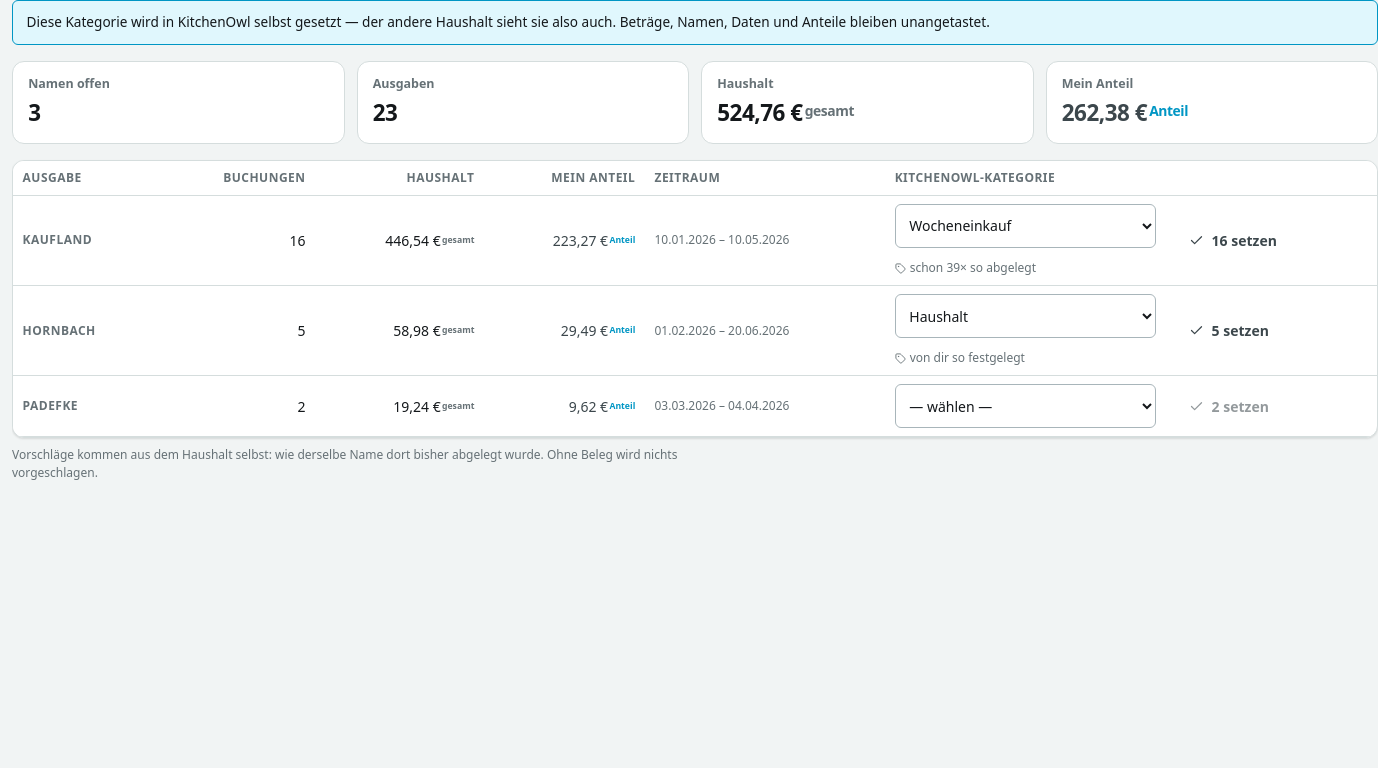
Scenario: the tagging queue › applies one name at a time, sending the chosen category
Click the button "16 setzen". click: [1233, 240]
box: left=1175, top=221, right=1292, bottom=260
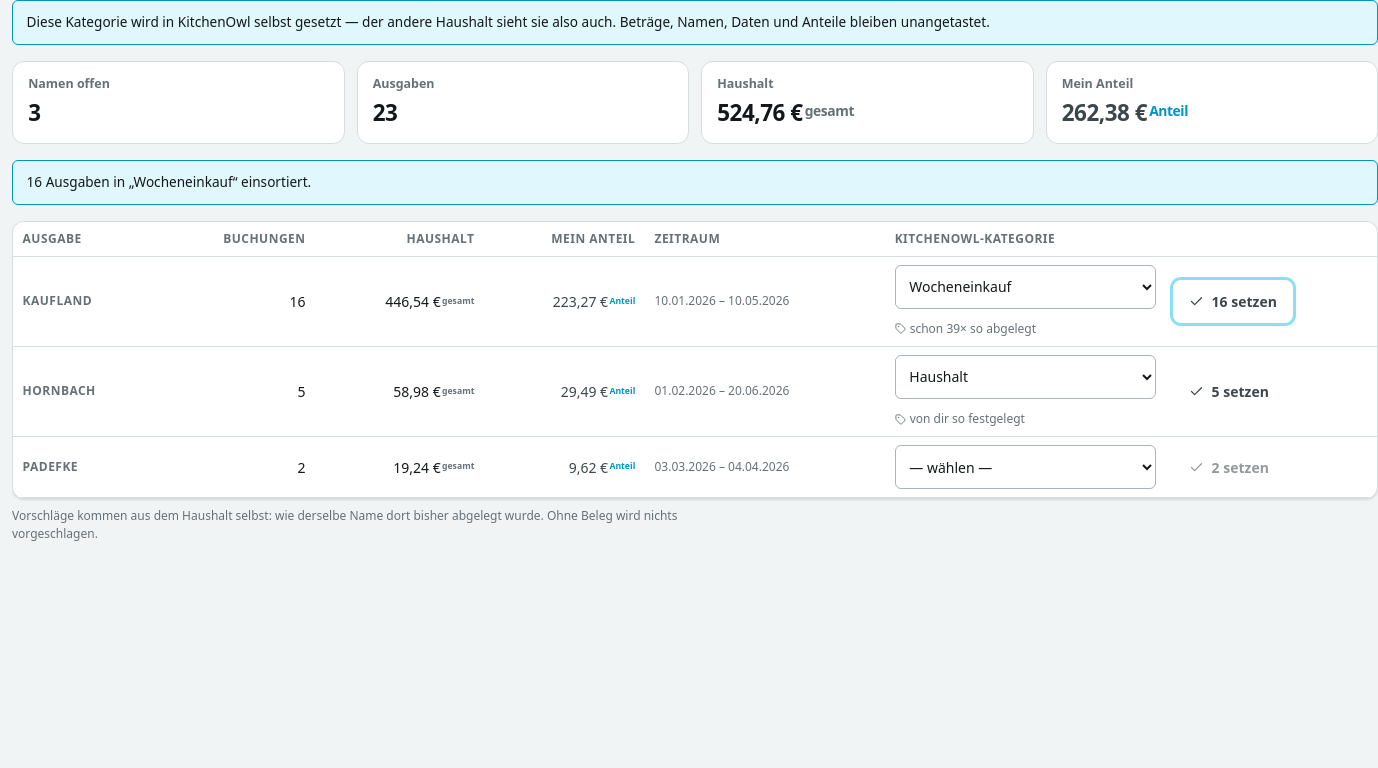
Check: the text "16 Ausgaben in „Wocheneinkauf“ einsortiert." is shown, box left=27, top=172, right=311, bottom=192
